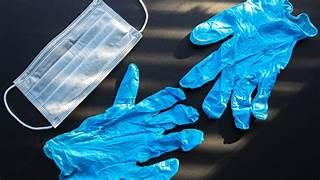Glove: (43, 64, 202, 179), (180, 0, 317, 128)
Mask: (4, 0, 147, 129)
